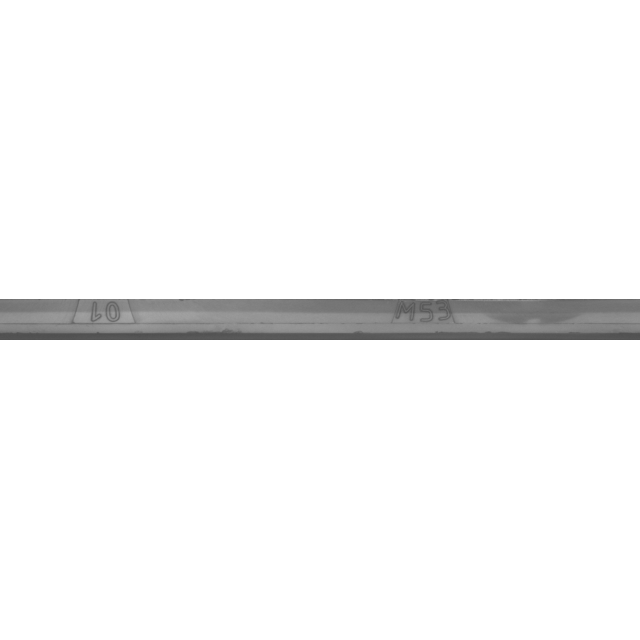mohao: (327, 270, 527, 370)
xuehao: (2, 270, 202, 370)
